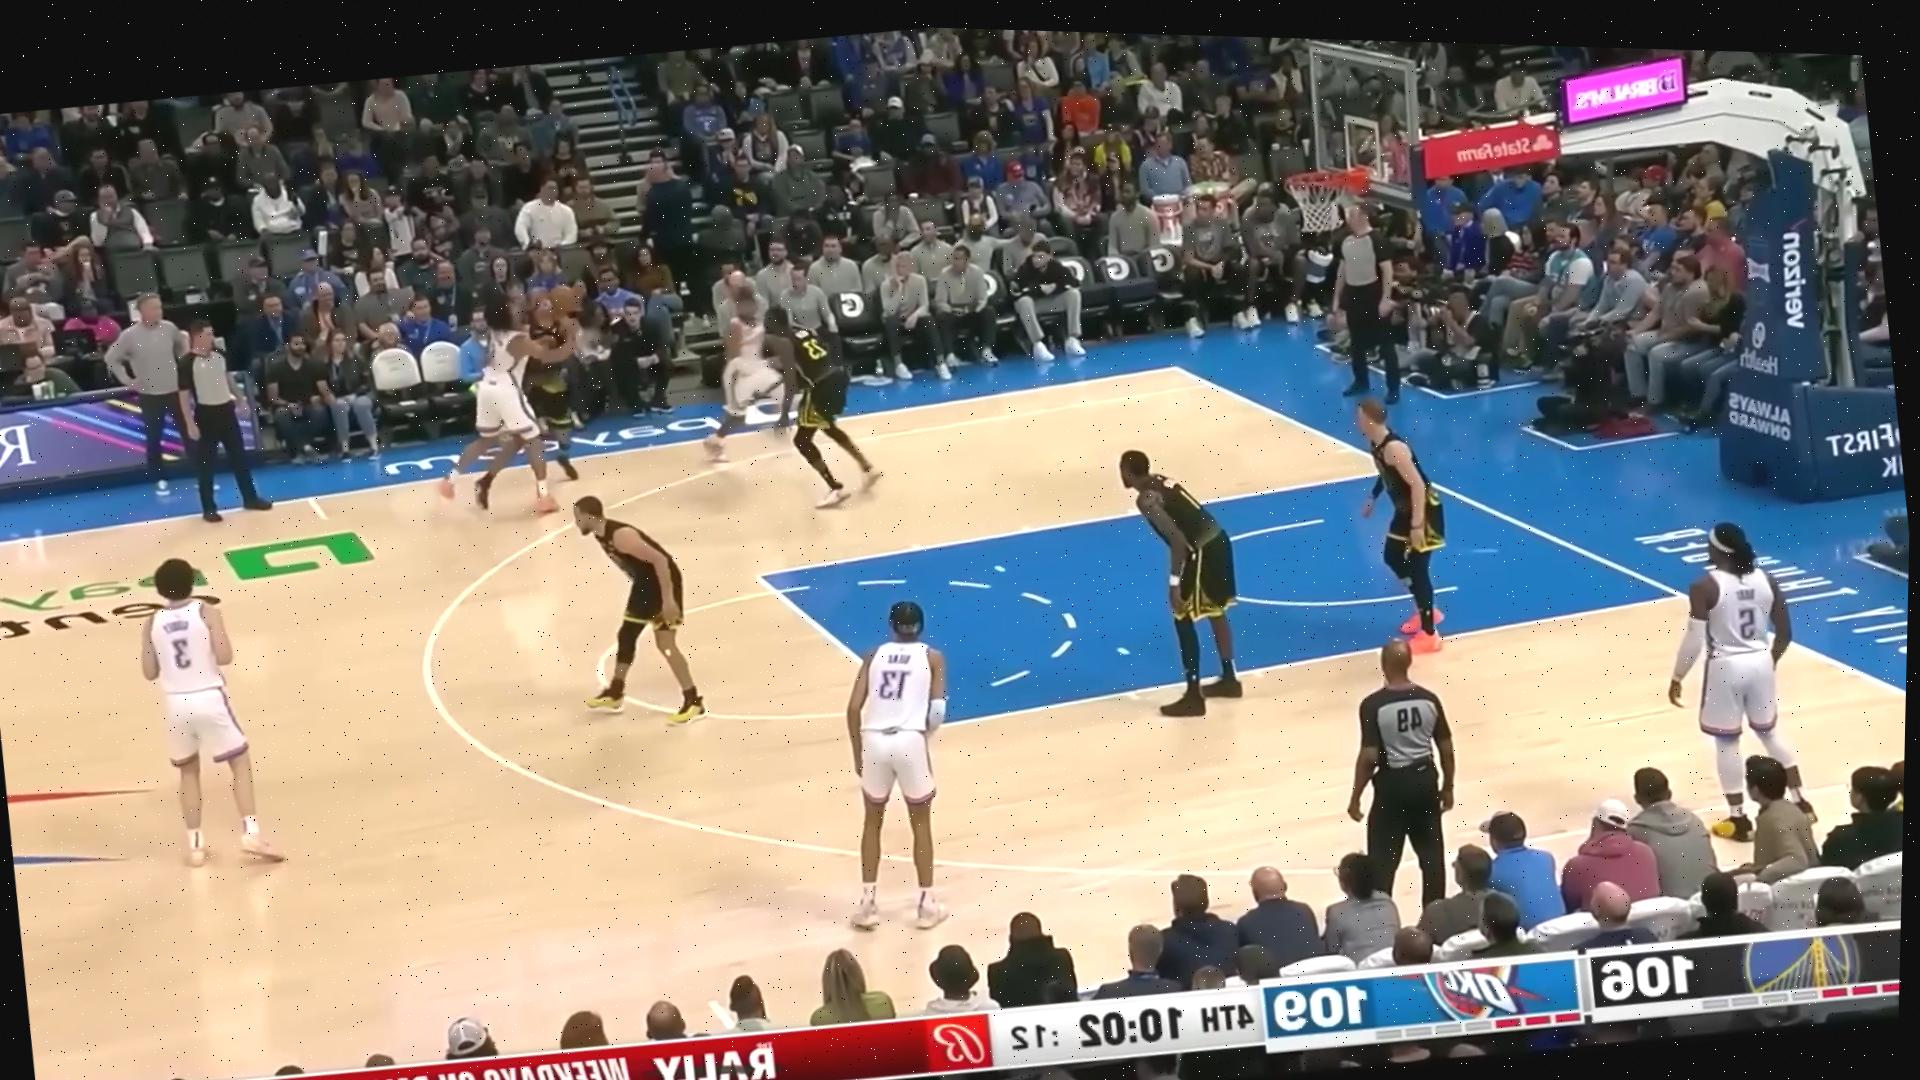foul: (417, 265, 615, 537)
